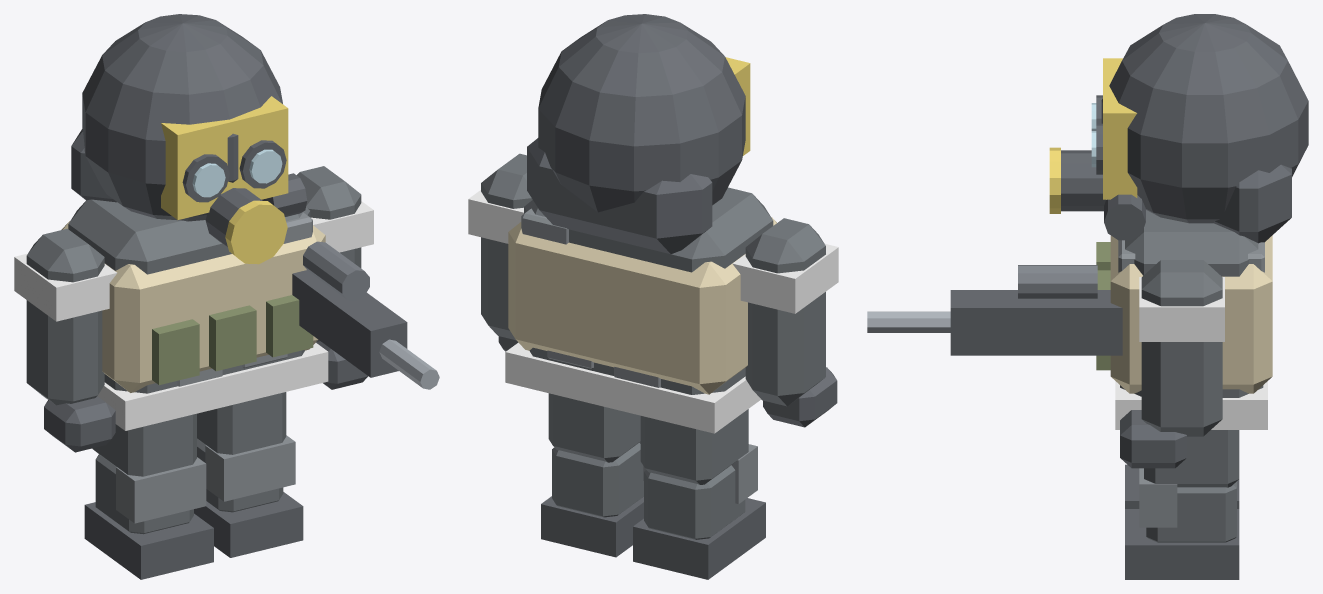
File: ranger@toxico.glb
The picture shows the model from 3 angles, left to right: view 1: azimuth 30°, elevation 25°; view 2: azimuth 150°, elevation 25°; view 3: azimuth 270°, elevation 25°; orthographic projection. The views are drawn at different scales.
Visible parts, largest first — view 1: main, shinl, shinr, legl, legr; view 2: main, shinl, shinr, legl, legr; view 3: main, shinr, legr, shinl.
Part boxes in pixels (x1=…): main: x1=14, y1=14, x2=439, y2=452; shinl: x1=84, y1=454, x2=213, y2=579; shinr: x1=194, y1=435, x2=303, y2=557; legl: x1=92, y1=413, x2=196, y2=476; legr: x1=197, y1=392, x2=286, y2=454; main: x1=468, y1=14, x2=838, y2=433; shinl: x1=633, y1=444, x2=765, y2=579; shinr: x1=541, y1=442, x2=645, y2=557; legl: x1=640, y1=409, x2=748, y2=484; legr: x1=548, y1=393, x2=640, y2=462; main: x1=867, y1=14, x2=1308, y2=468; shinr: x1=1125, y1=468, x2=1239, y2=579; legr: x1=1144, y1=430, x2=1239, y2=487; shinl: x1=1125, y1=464, x2=1239, y2=508.
Bounding box in the file's own units: 0.391 × 0.5975 × 0.4624.
